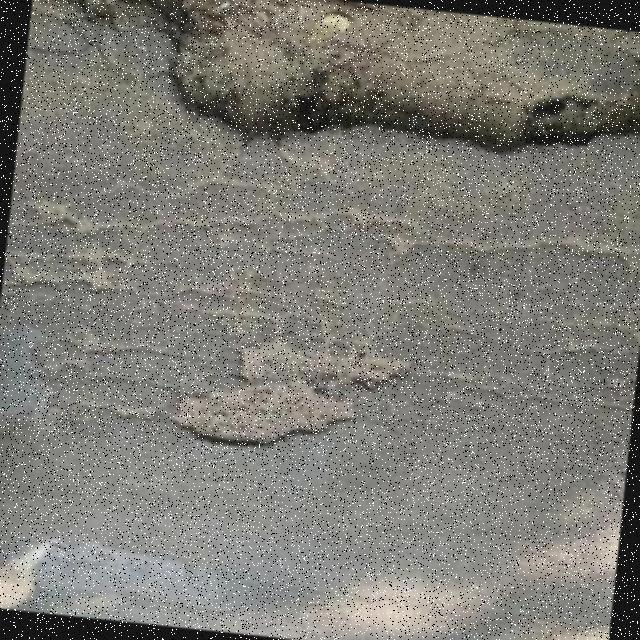Pothole: (35, 0, 640, 154), (173, 339, 407, 445)
